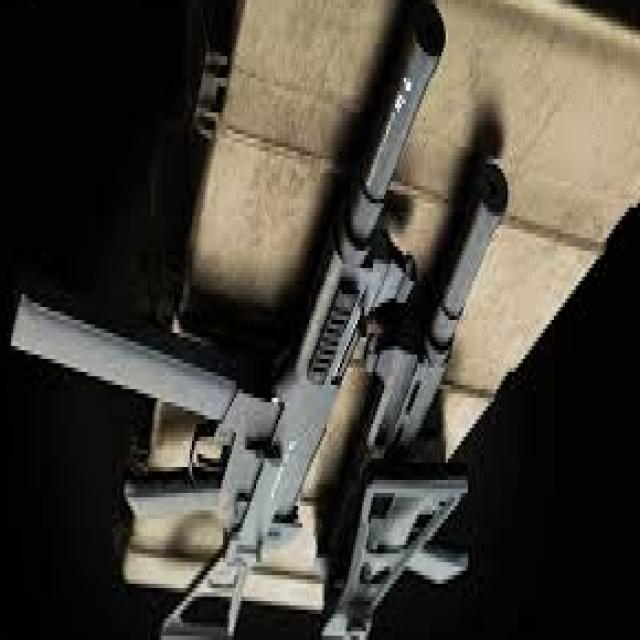Gun: (0, 0, 444, 640), (300, 121, 514, 640)
